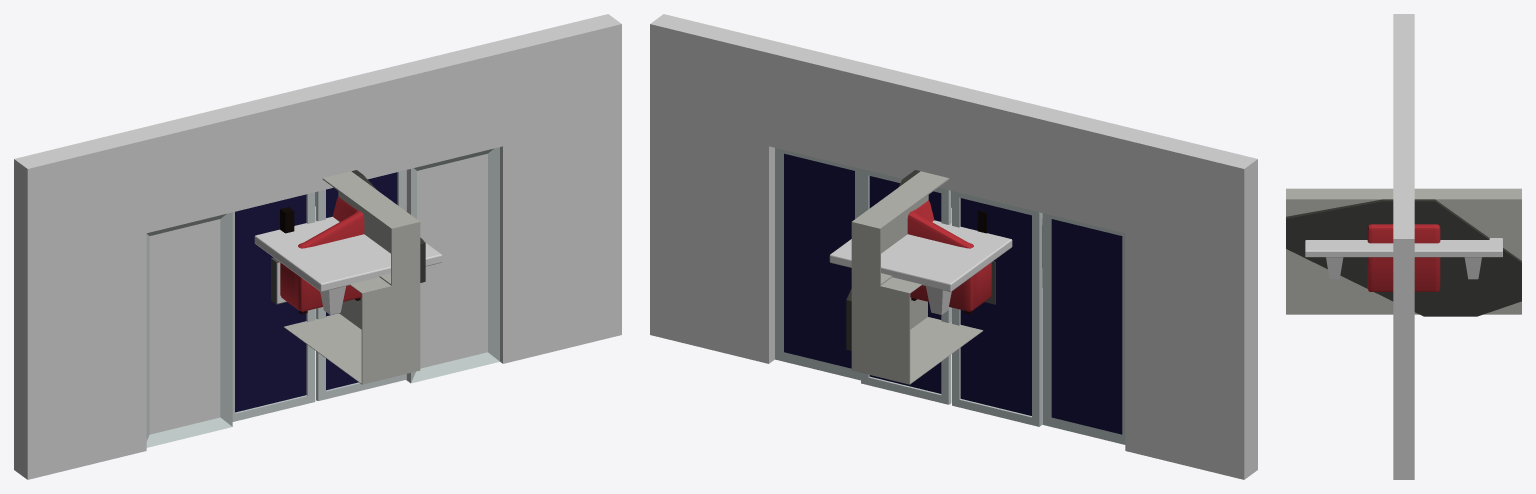
The model's file is lastscene.fbx.
3 views of the same model, side by side, from view 1: azimuth 30°, elevation 25°; view 2: azimuth 150°, elevation 25°; view 3: azimuth 270°, elevation 25° (orthographic). The views are drawn at different scales.
Parts seen in each view (by area): view 1: wall_5m_cikis, cikisKapisi, lobiDesk, acilirKapi1, sehba, acilirKapi2, koltuk, cikisTabelesi; view 2: wall_5m_cikis, cikisKapisi, acilirKapi1, lobiDesk, sehba, acilirKapi2, koltuk; view 3: lobiDesk, wall_5m_cikis, sehba, koltuk.
Boxes of the visible parts, left/top/right/bottom form: wall_5m_cikis: left=14, top=14, right=621, bottom=479; cikisKapisi: left=146, top=147, right=499, bottom=447; lobiDesk: left=284, top=170, right=425, bottom=384; acilirKapi1: left=232, top=192, right=315, bottom=421; sehba: left=254, top=206, right=442, bottom=314; acilirKapi2: left=316, top=170, right=405, bottom=400; koltuk: left=280, top=192, right=364, bottom=314; cikisTabelesi: left=271, top=207, right=294, bottom=304; wall_5m_cikis: left=650, top=14, right=1257, bottom=479; cikisKapisi: left=775, top=148, right=1125, bottom=444; acilirKapi1: left=952, top=191, right=1041, bottom=426; lobiDesk: left=846, top=170, right=1042, bottom=384; sehba: left=829, top=208, right=1042, bottom=314; acilirKapi2: left=861, top=169, right=951, bottom=404; koltuk: left=907, top=191, right=991, bottom=314; lobiDesk: left=1286, top=188, right=1521, bottom=316; wall_5m_cikis: left=1393, top=14, right=1414, bottom=479; sehba: left=1305, top=238, right=1502, bottom=279; koltuk: left=1367, top=224, right=1440, bottom=291.
Size of the model in its own units: 500 by 250 by 221.
